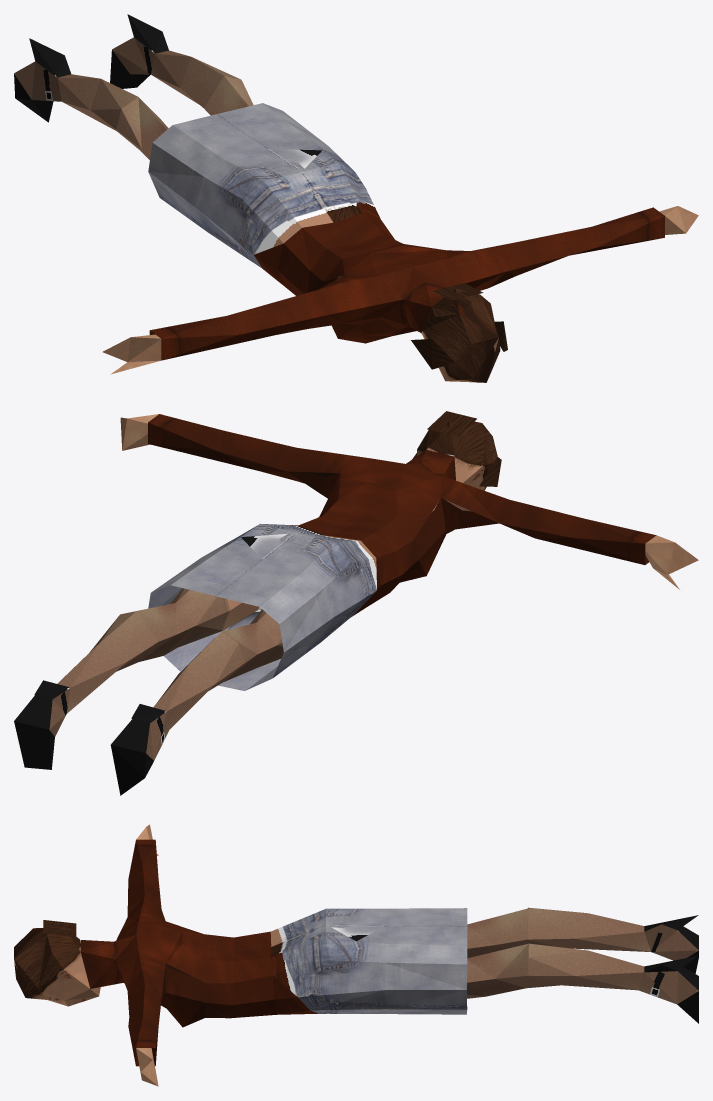
The model's file is tomdrinwoman4_3klow_wtf.obj.
The picture shows the model from 3 angles, top to bottom: view 1: azimuth 30°, elevation 25°; view 2: azimuth 150°, elevation 25°; view 3: azimuth 270°, elevation 25°; orthographic projection. The views are drawn at different scales.
Visible parts, largest first — view 1: group1; view 2: group1; view 3: group1.
Part boxes in pixels (x1,y1,x2,y2): group1: (14, 14, 698, 382); group1: (14, 411, 698, 795); group1: (14, 824, 698, 1086).
Bounding box in the file's own units: 557 × 95.46 × 660.
